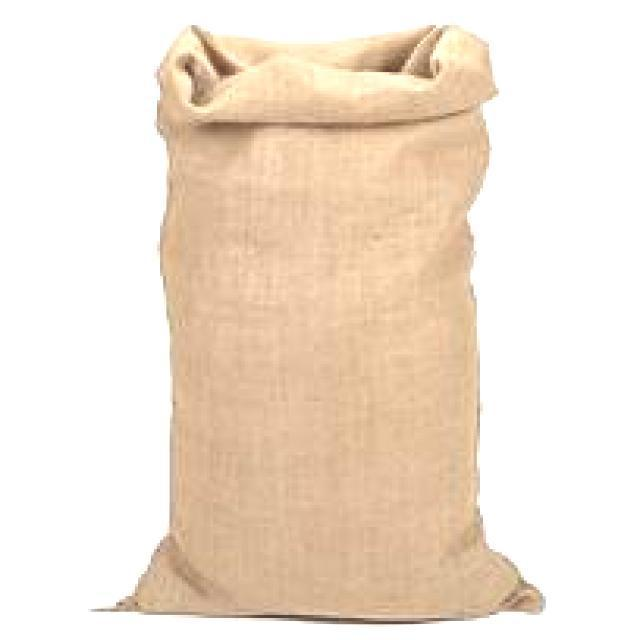gunny_bag: (94, 13, 552, 632)
